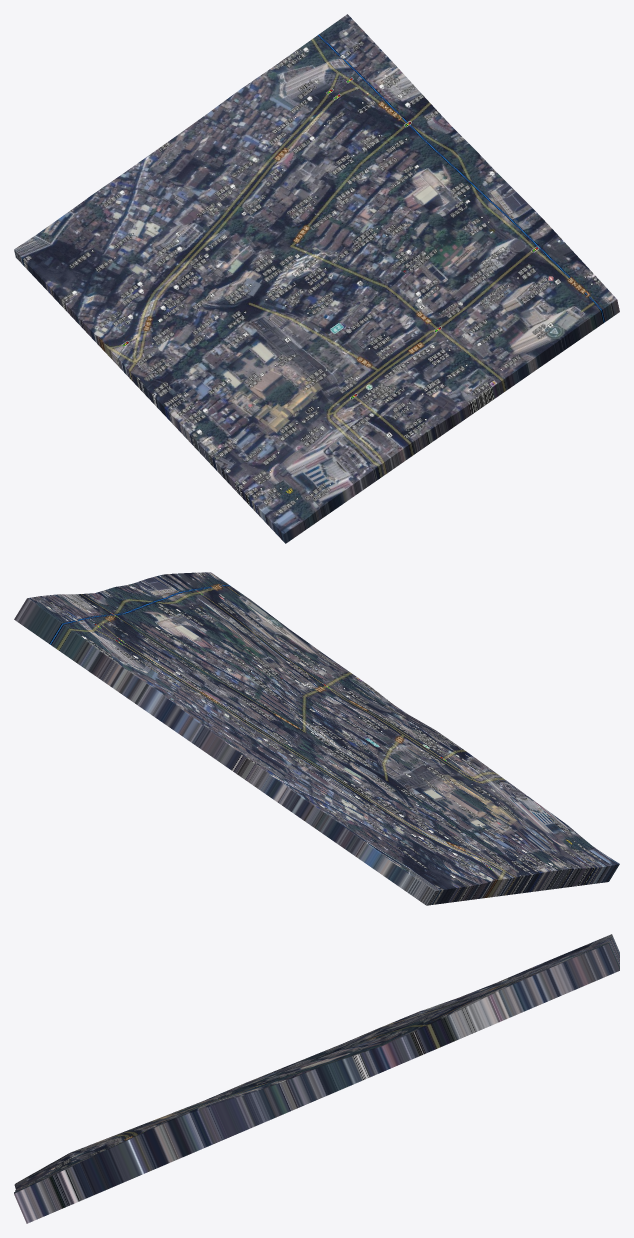
3 renders of one model, top to bottom at view 1: azimuth 30°, elevation 25°; view 2: azimuth 150°, elevation 25°; view 3: azimuth 270°, elevation 25°, orthographic. The views are drawn at different scales.
Visible parts, largest first — view 1: 0_10_11; view 2: 0_10_11; view 3: 0_10_11.
Boxes of the visible parts, box(x1,y1,x2,y2) form: 0_10_11: box(14, 14, 619, 543); 0_10_11: box(14, 572, 619, 905); 0_10_11: box(14, 934, 619, 1223).
Bounding box in the file's own units: 599 × 451 × 554.
1 material, 1 textured.
